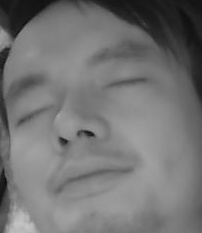blink: (104, 73, 145, 94), (18, 103, 50, 126)
mouth: (48, 153, 127, 204)
